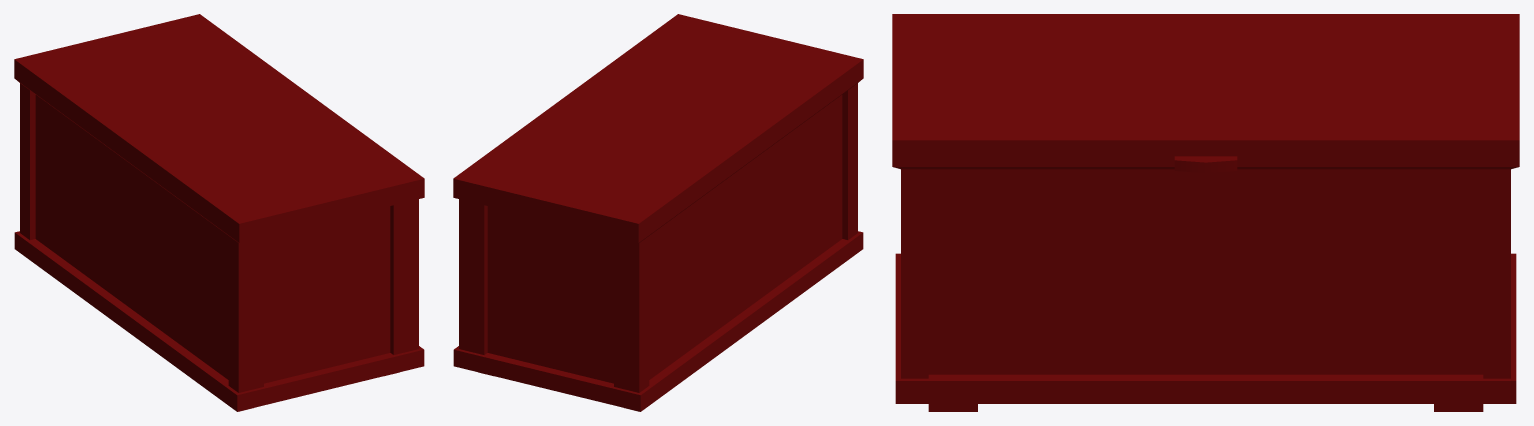
File: sandyk.fbx
3 views of the same model, side by side, from view 1: azimuth 30°, elevation 25°; view 2: azimuth 150°, elevation 25°; view 3: azimuth 270°, elevation 25° (orthographic). The views are drawn at different scales.
Parts seen in each view (by area): view 1: pCube173; view 2: pCube173; view 3: pCube173.
Boxes of the visible parts, box(x1,y1,x2,y2) form: pCube173: box(14, 14, 424, 411); pCube173: box(453, 14, 863, 411); pCube173: box(892, 14, 1519, 411).
Size of the model in its own units: 1.73 by 1.7 by 3.45.
